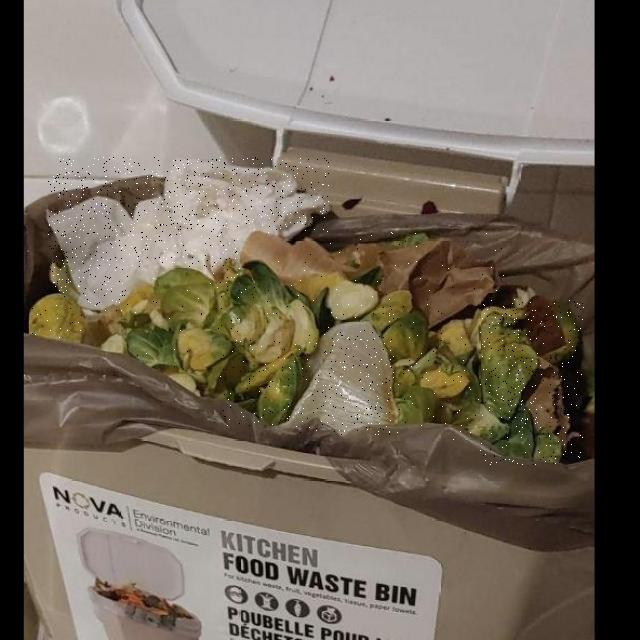biowaste: (241, 231, 504, 329), (479, 300, 584, 465), (220, 259, 320, 427), (394, 306, 527, 426), (295, 326, 398, 435), (128, 267, 235, 368), (384, 300, 432, 369), (30, 291, 89, 340), (327, 275, 380, 320), (453, 404, 507, 447), (364, 292, 413, 336)
paper: (49, 158, 330, 312)
